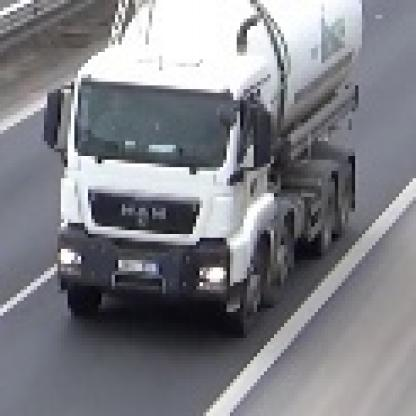truck: (45, 1, 363, 324)
